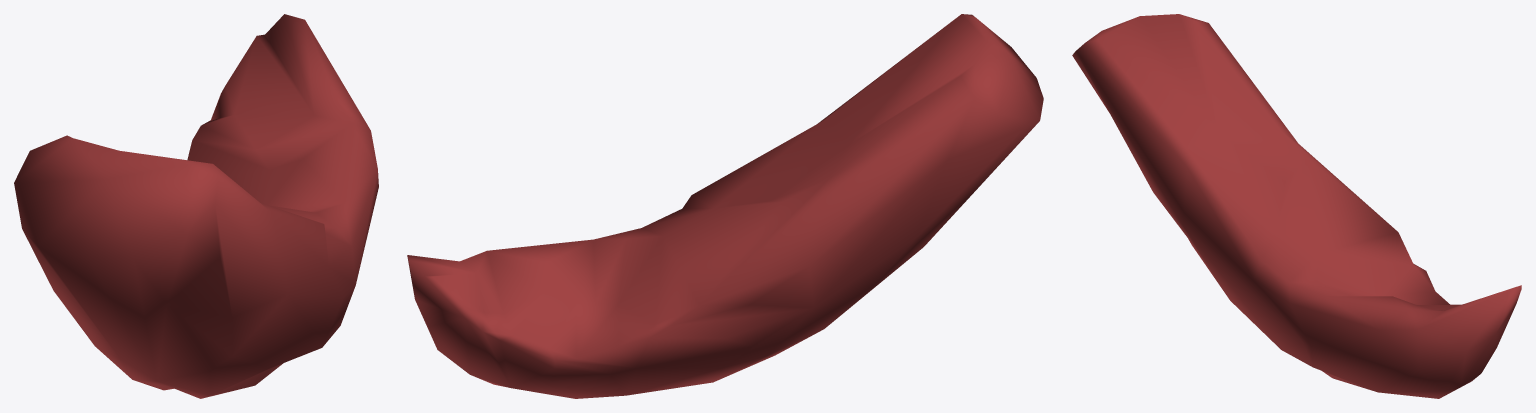
File: superior-head-of-lateral-pterygoid-muscle-l.glb
The picture shows the model from 3 angles, left to right: view 1: azimuth 30°, elevation 25°; view 2: azimuth 150°, elevation 25°; view 3: azimuth 270°, elevation 25°; orthographic projection. The views are drawn at different scales.
Parts seen in each view (by area): view 1: Superior head of lateral pterygoid muscle.l; view 2: Superior head of lateral pterygoid muscle.l; view 3: Superior head of lateral pterygoid muscle.l.
Part boxes in pixels (x1,y1,x2,y2): Superior head of lateral pterygoid muscle.l: [14, 14, 378, 398]; Superior head of lateral pterygoid muscle.l: [407, 14, 1043, 398]; Superior head of lateral pterygoid muscle.l: [1072, 14, 1521, 398].
Bounding box in the file's own units: 0.0212 × 0.0147 × 0.0224.
